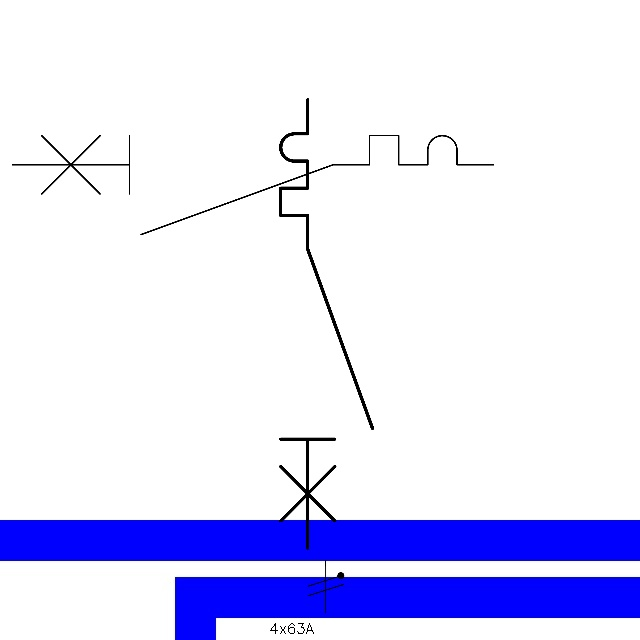interruptor_termomagnetico: (0, 123, 506, 247), (269, 88, 384, 560)
